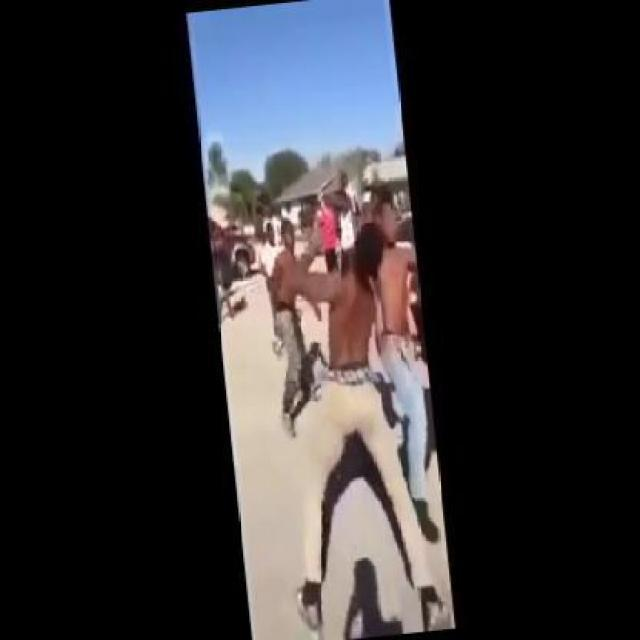fight: (279, 188, 410, 626)
